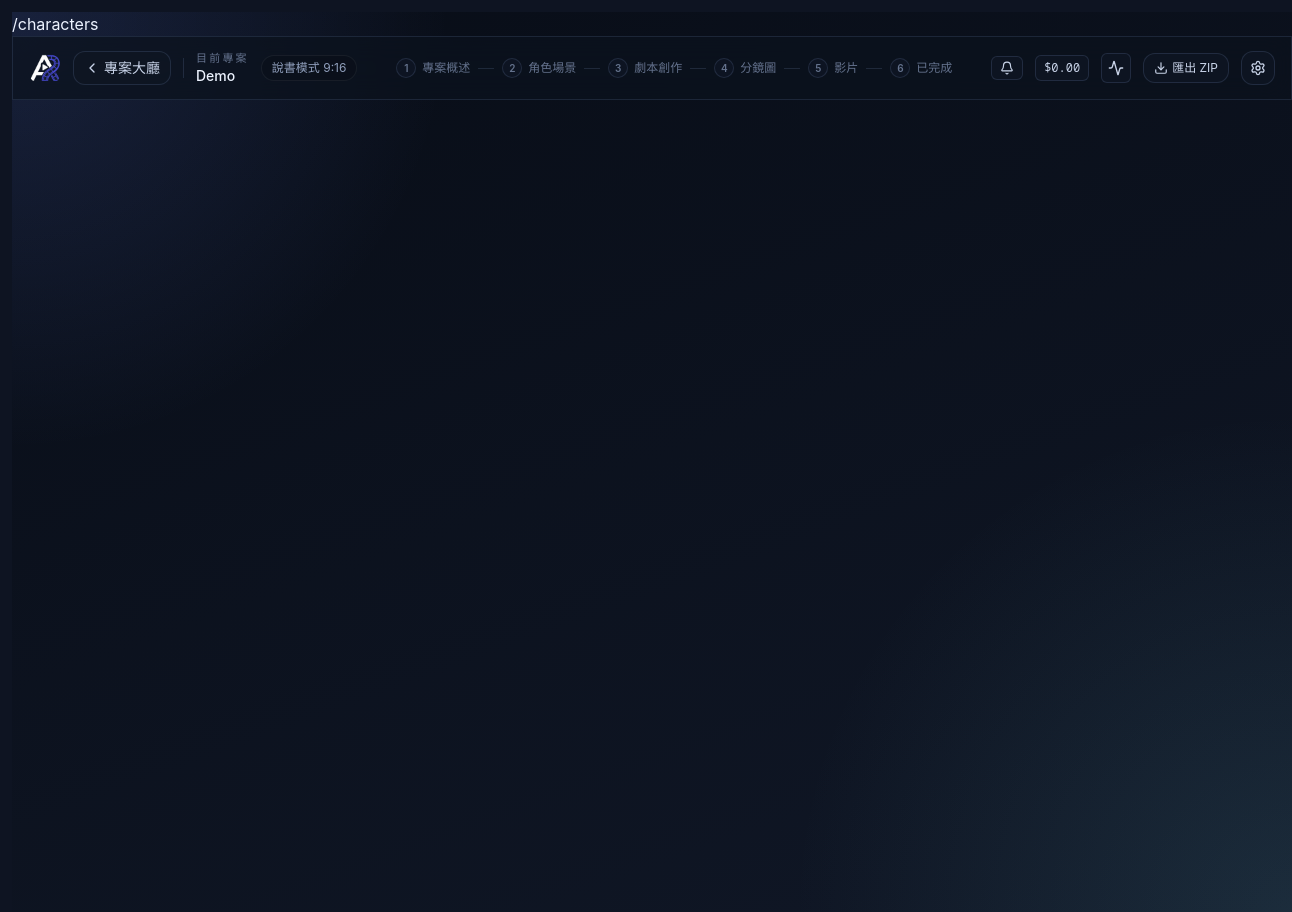
GlobalHeader › lets the timeline choose the remembered tab when navigating to scripting
Click the button "3 劇本創作": click(645, 68) [604,56,686,80]
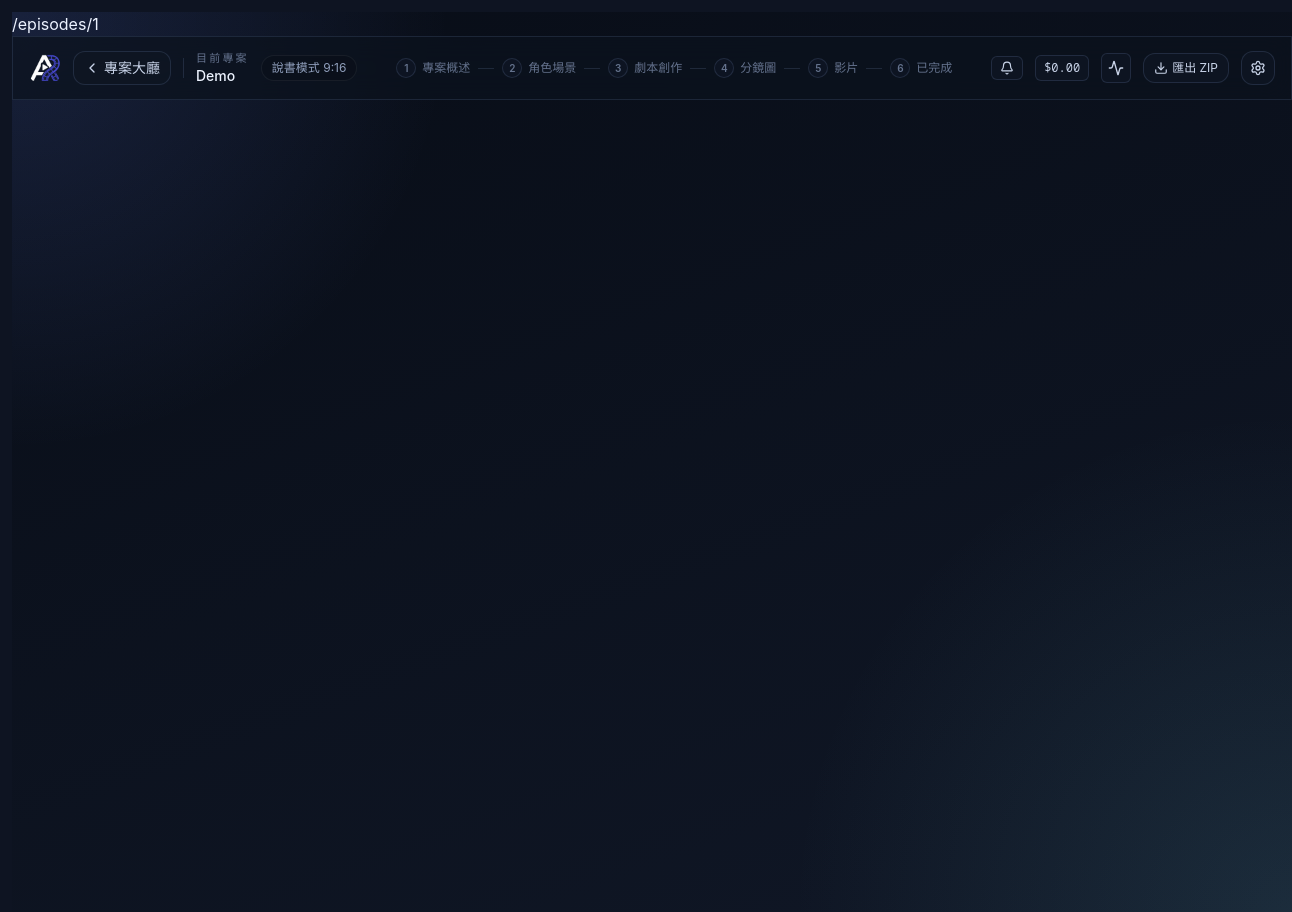
expect the text with test id "location" does not show "tab=preprocessing": met, box [12,14,99,34]
expect the text with test id "location" reads "/episodes/1": met, box [12,14,99,34]
